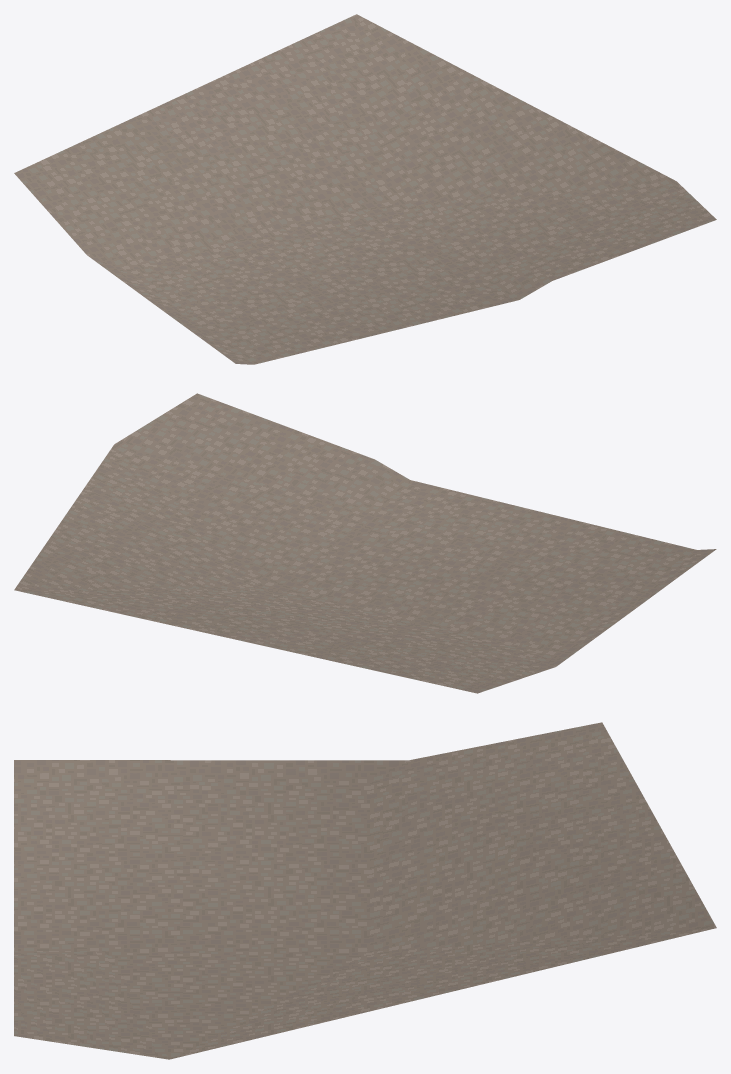
File: kd_stage_135b75_4_149_bounded.glb
3 views of the same model, one above another, from view 1: azimuth 30°, elevation 25°; view 2: azimuth 150°, elevation 25°; view 3: azimuth 270°, elevation 25° (orthographic). The views are drawn at different scales.
Parts seen in each view (by area): view 1: kd_stage_135b75_4_149_bounded; view 2: kd_stage_135b75_4_149_bounded; view 3: kd_stage_135b75_4_149_bounded.
Part boxes in pixels (x1=…): kd_stage_135b75_4_149_bounded: x1=14, y1=14, x2=716, y2=364; kd_stage_135b75_4_149_bounded: x1=14, y1=393, x2=716, y2=693; kd_stage_135b75_4_149_bounded: x1=14, y1=722, x2=716, y2=1059.
Bounding box in the file's own units: 0.6537 × 0.0838 × 0.6006.
1 material, 1 textured.
